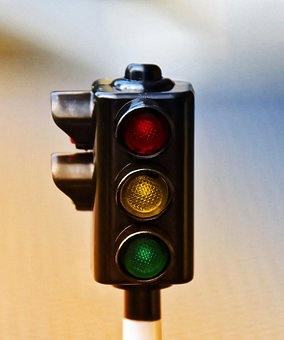trafic: (93, 82, 195, 284)
